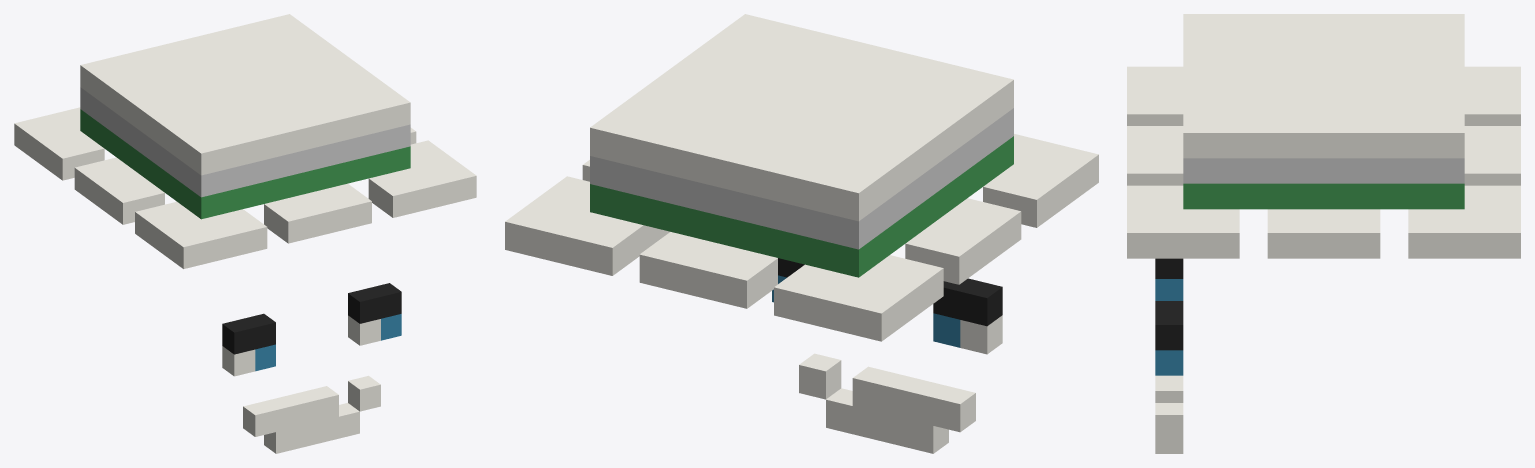
Rendered from Kompot-2.obj.
The picture shows the model from 3 angles, left to right: view 1: azimuth 30°, elevation 25°; view 2: azimuth 150°, elevation 25°; view 3: azimuth 270°, elevation 25°; orthographic projection. The views are drawn at different scales.
Size of the model in its own units: 1.4 by 1.4 by 1.4.
Materials: 1 (1 with a texture image).
